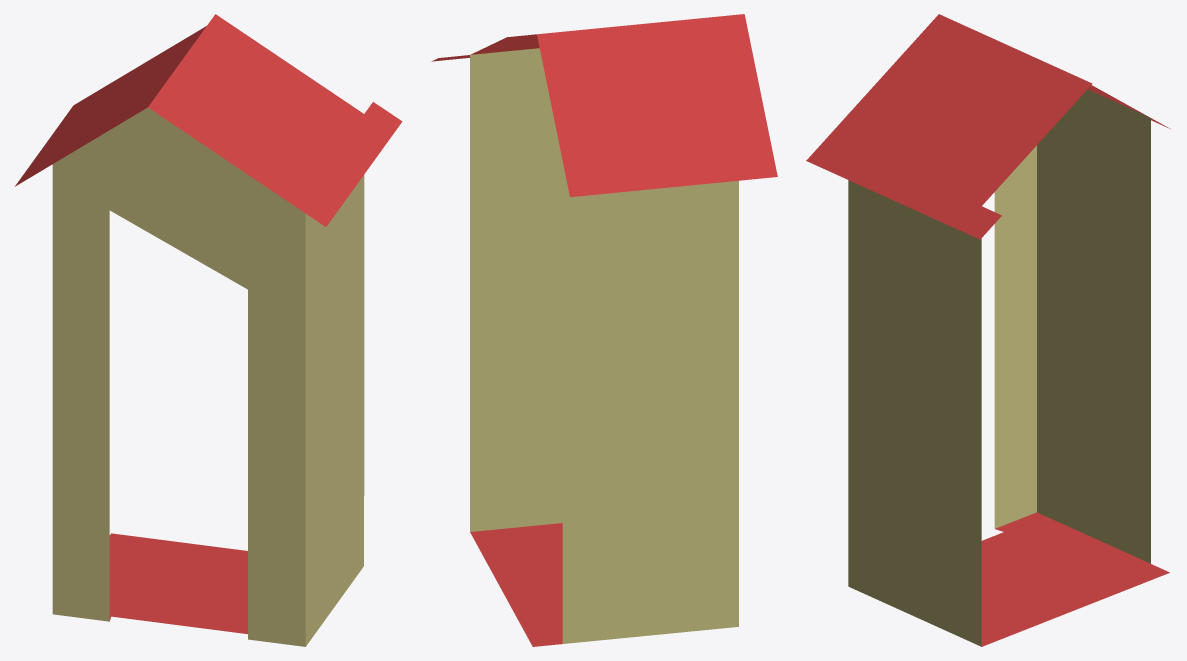
3 renders of one model, left to right at view 1: azimuth 30°, elevation 25°; view 2: azimuth 150°, elevation 25°; view 3: azimuth 270°, elevation 25°, orthographic. The views are drawn at different scales.
Size of the model in its own units: 6.73 by 6.12 by 9.56.
